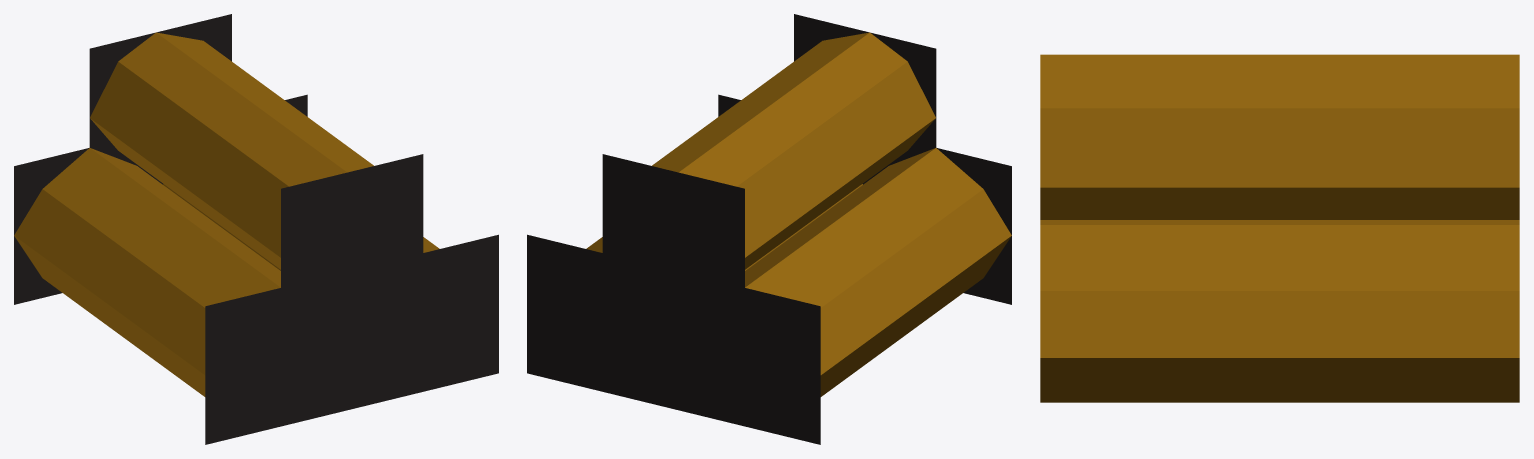
The model's file is inv_yew_logs.obj.
3 renders of one model, left to right at view 1: azimuth 30°, elevation 25°; view 2: azimuth 150°, elevation 25°; view 3: azimuth 270°, elevation 25°, orthographic. The views are drawn at different scales.
Size of the model in its own units: 0.2422 by 0.1875 by 0.2734.
